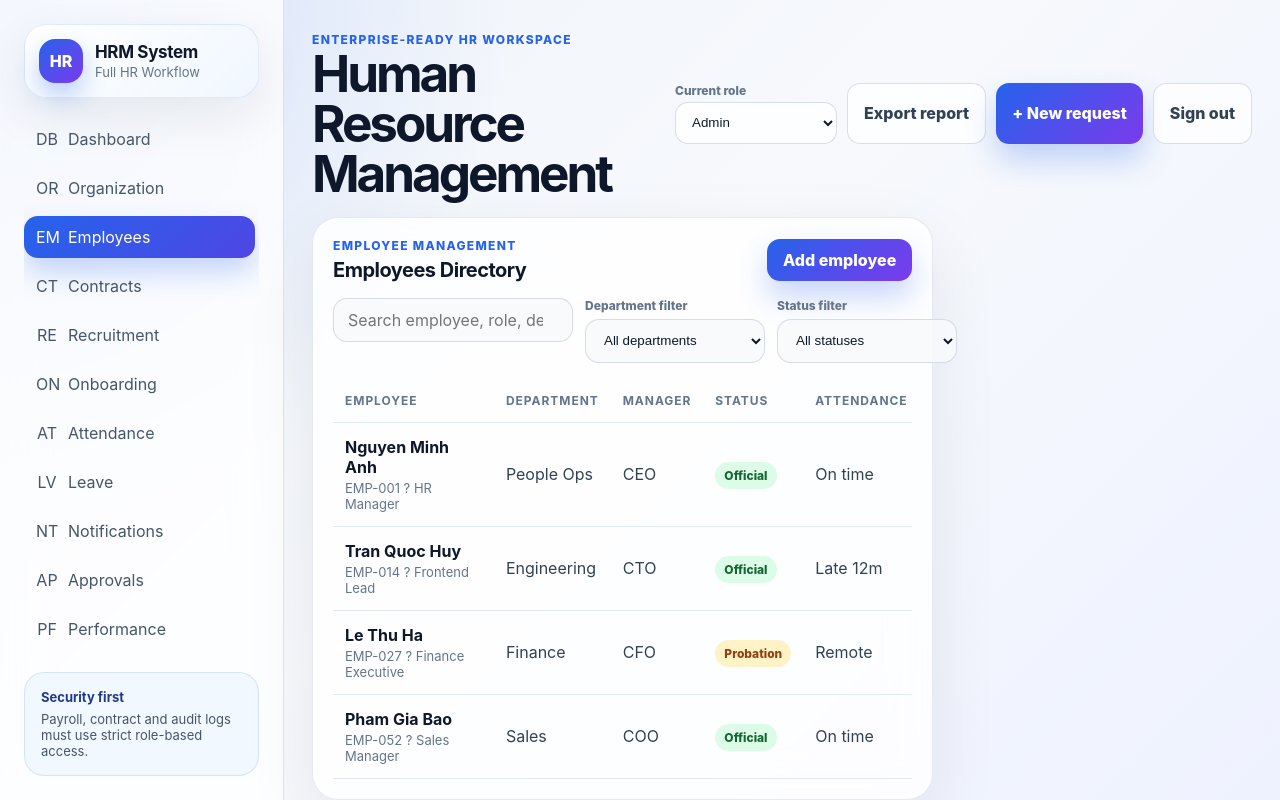
HRM route navigation › filters employees by department and employment status
Select "Engineering" in the dropdown labelled "Department filter" at point(675, 340), box x1=585 y1=318 x2=765 y2=362
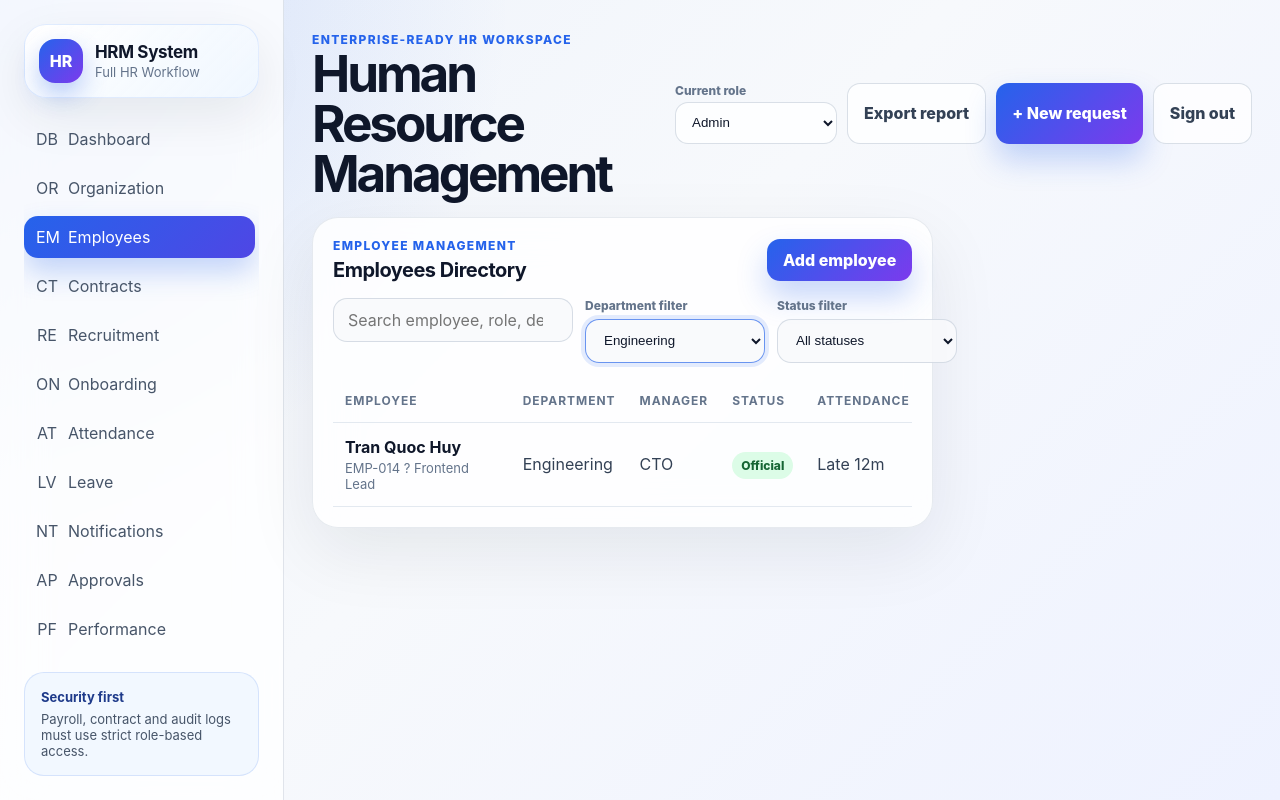
Expected: the text "Tran Quoc Huy" is shown, x1=345 y1=436 x2=461 y2=456
Expected: the text "Nguyen Minh Anh" is gone
Select "All departments" in the dropdown labelled "Department filter" at point(675, 340), box x1=585 y1=318 x2=765 y2=362
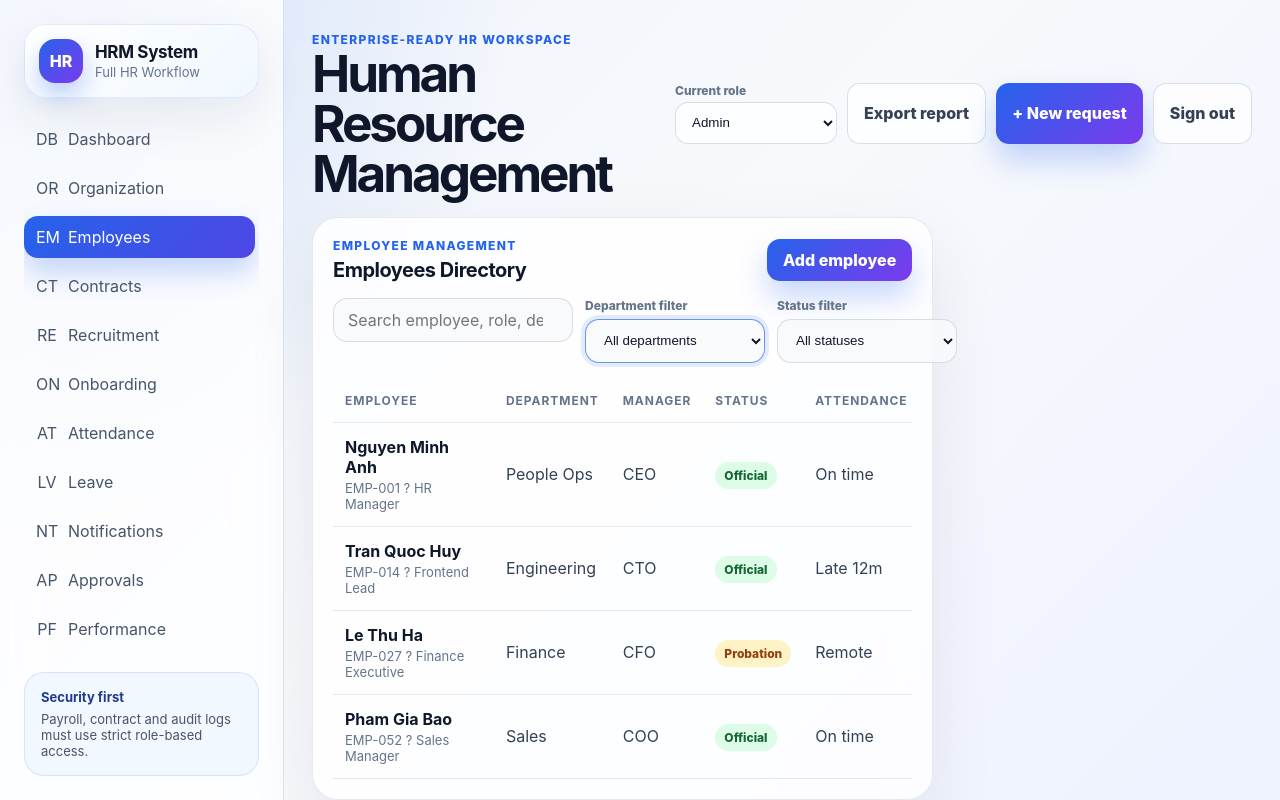
Select "Probation" in the dropdown labelled "Status filter" at point(867, 340), box x1=777 y1=318 x2=957 y2=362
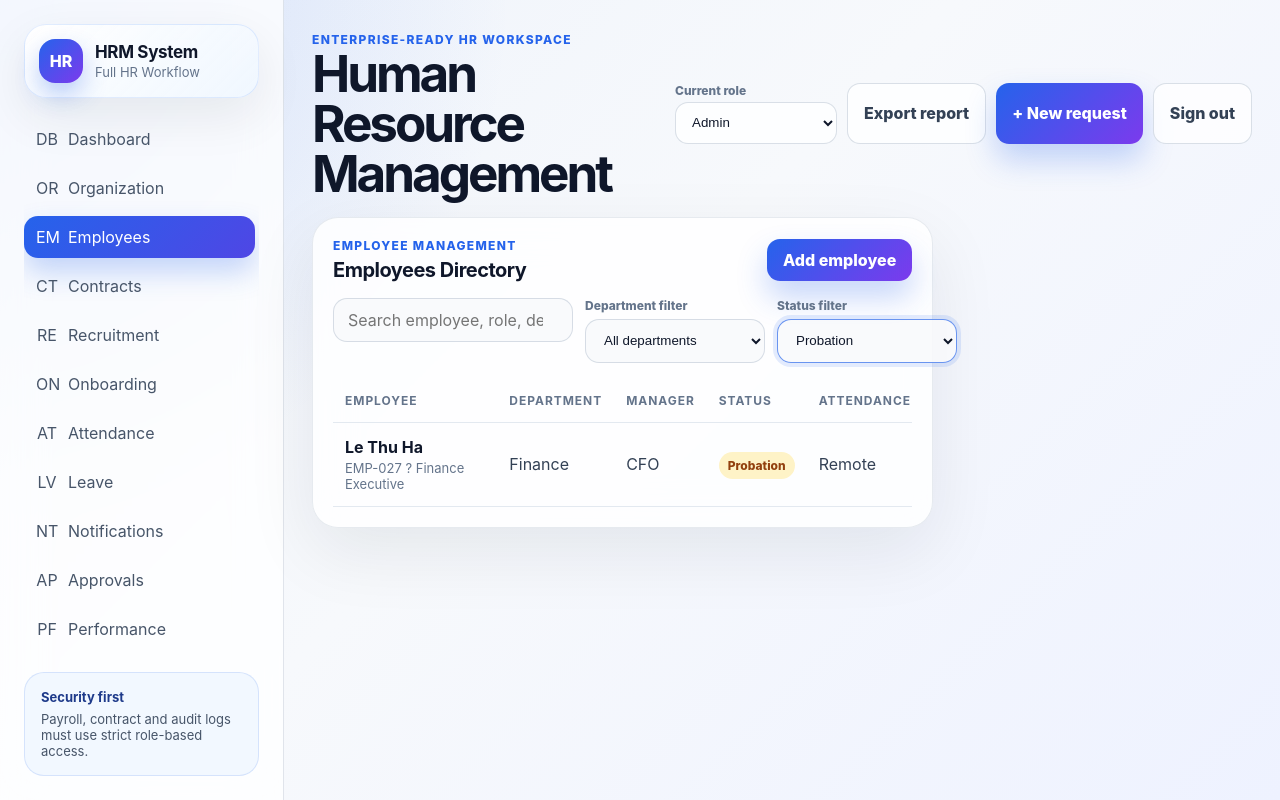
Expected: the text "Le Thu Ha" is shown, x1=345 y1=436 x2=423 y2=456
Expected: the text "Pham Gia Bao" is gone
